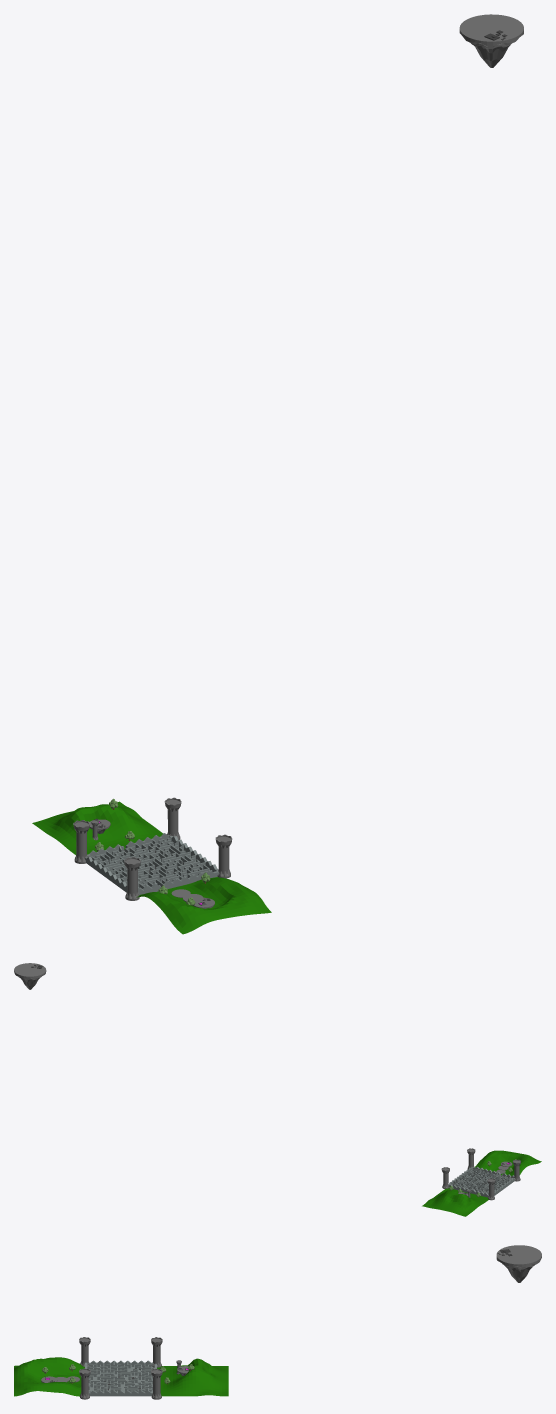
Rendered from maze1.glb.
The picture shows the model from 3 angles, top to bottom: view 1: azimuth 30°, elevation 25°; view 2: azimuth 150°, elevation 25°; view 3: azimuth 270°, elevation 25°; orthographic projection. The views are drawn at different scales.
Parts seen in each view (by area): view 1: Plane.001, Plane.006, Plane.005, platforme_roche.002; view 2: Plane.001, Plane.005, Plane.006, platforme_roche.002; view 3: Plane.001, Plane.005, Plane.006, platforme_roche.002, Cylinder.001, Cylinder.034, Cylinder.003, Cylinder.002.
Boxes of the visible parts, x1,y1,x2,y2 form: Plane.001: (85, 833, 219, 894); Plane.006: (136, 877, 271, 934); Plane.005: (32, 801, 162, 854); platforme_roche.002: (459, 14, 523, 67); Plane.001: (448, 1166, 514, 1197); Plane.005: (422, 1188, 488, 1216); Plane.006: (475, 1150, 541, 1176); platforme_roche.002: (14, 963, 46, 989); Plane.001: (85, 1360, 156, 1396); Plane.005: (157, 1358, 228, 1396); Plane.006: (14, 1357, 84, 1396); platforme_roche.002: (496, 1245, 541, 1282); Cylinder.001: (151, 1368, 162, 1399); Cylinder.034: (79, 1368, 90, 1399); Cylinder.003: (151, 1337, 162, 1367); Cylinder.002: (79, 1337, 90, 1366).
Bounding box in the file's own units: 1592 × 1074 × 1468.
14 materials, 2 textured.
